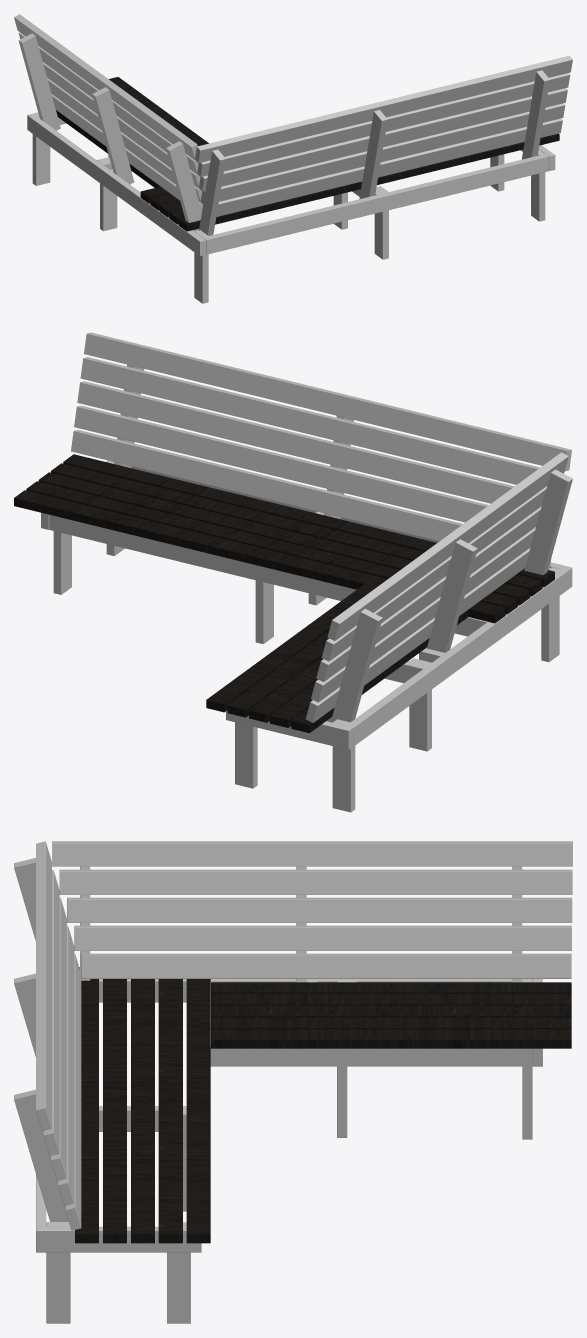
Rendered from bench.fbx.
3 renders of one model, top to bottom at view 1: azimuth 30°, elevation 25°; view 2: azimuth 150°, elevation 25°; view 3: azimuth 270°, elevation 25°, orthographic. The views are drawn at different scales.
Visible parts, largest first — view 1: 2x4x8.100, 2x4x8.074, 2x4x8.073, 2x4x8.072, 2x4x8.071, 2x4x8.070, 2x4x8.103, 2x4x8.079, 2x4x8.081, 2x4x8.115, 2x4x8.114, 2x4x8.078 (+14 smaller); view 2: 2x4x8.074, 2x4x8.073, 2x4x8.072, 2x4x8.071, 2x4x8.070, 2x4x8.084, 2x4x8.103, 2x4x8.079, 2x4x8.080, 2x4x8.083, 2x4x8.082, 2x4x8.081 (+21 smaller); view 3: 2x4x8.079, 2x4x8.078, 2x4x8.077, 2x4x8.076, 2x4x8.075, 2x4x8.087, 2x4x8.083, 2x4x8.084, 2x4x8.080, 2x4x8.082, 2x4x8.106, 2x4x8.081 (+18 smaller).
Boxes of the visible parts, <box> form: 2x4x8.100: <box>203,154,548,254</box>; 2x4x8.074: <box>195,55,572,163</box>; 2x4x8.073: <box>197,73,570,176</box>; 2x4x8.072: <box>199,88,567,191</box>; 2x4x8.071: <box>200,103,565,204</box>; 2x4x8.070: <box>216,118,562,216</box>; 2x4x8.103: <box>30,116,205,256</box>; 2x4x8.079: <box>14,14,197,160</box>; 2x4x8.081: <box>178,133,559,231</box>; 2x4x8.115: <box>92,87,134,184</box>; 2x4x8.114: <box>18,33,60,130</box>; 2x4x8.078: <box>18,32,198,174</box>; 2x4x8.074: <box>84,332,571,471</box>; 2x4x8.073: <box>80,357,540,484</box>; 2x4x8.072: <box>77,381,514,503</box>; 2x4x8.071: <box>74,405,488,522</box>; 2x4x8.070: <box>71,430,462,541</box>; 2x4x8.084: <box>14,490,505,623</box>; 2x4x8.103: <box>346,565,572,746</box>; 2x4x8.079: <box>327,452,568,640</box>; 2x4x8.080: <box>51,463,542,596</box>; 2x4x8.083: <box>26,481,517,614</box>; 2x4x8.082: <box>38,472,530,605</box>; 2x4x8.081: <box>63,454,554,587</box>; 2x4x8.079: <box>52,841,572,866</box>; 2x4x8.078: <box>59,869,572,894</box>; 2x4x8.077: <box>67,897,572,922</box>; 2x4x8.076: <box>74,925,571,950</box>; 2x4x8.075: <box>81,953,571,978</box>; 2x4x8.087: <box>211,1029,571,1048</box>; 2x4x8.083: <box>158,979,182,1243</box>; 2x4x8.084: <box>186,979,210,1243</box>; 2x4x8.080: <box>103,979,126,1243</box>; 2x4x8.082: <box>131,979,154,1243</box>; 2x4x8.106: <box>210,1041,532,1066</box>; 2x4x8.081: <box>75,967,98,1243</box>.
Bounding box in the file's own units: 242 × 94.65 × 206.
